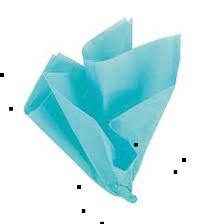tissue: (18, 13, 185, 205)
